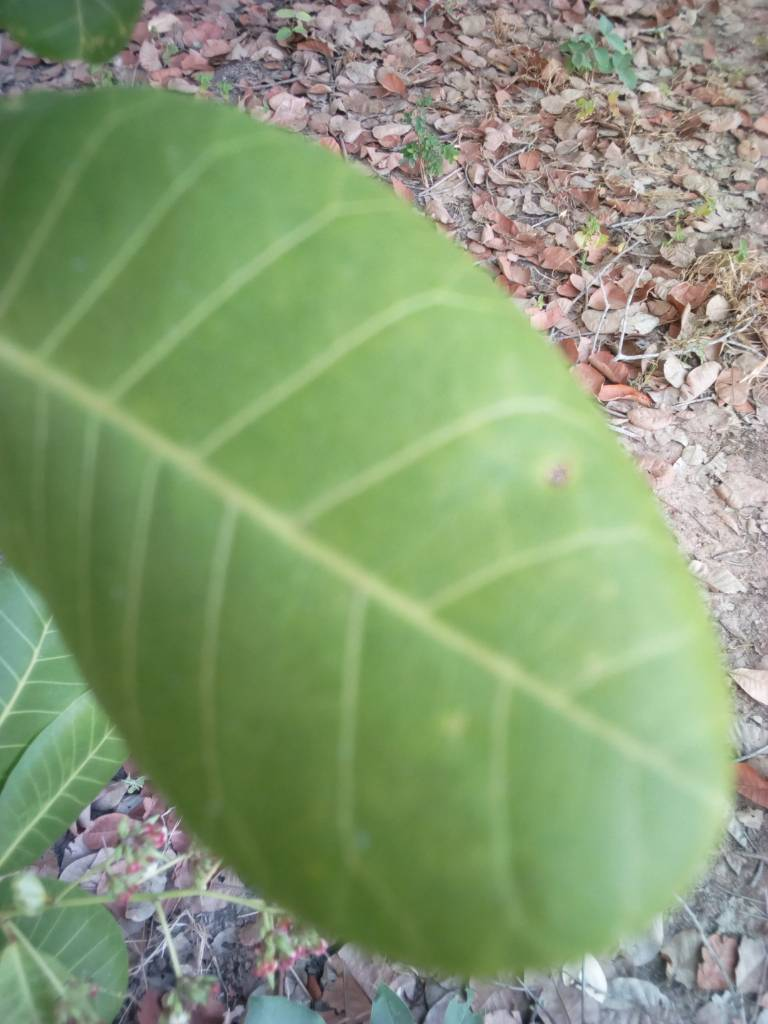Pestalotiose: (110, 278, 730, 941)
